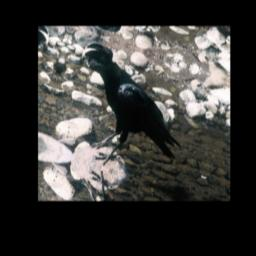Crow: (55, 37, 200, 188)
